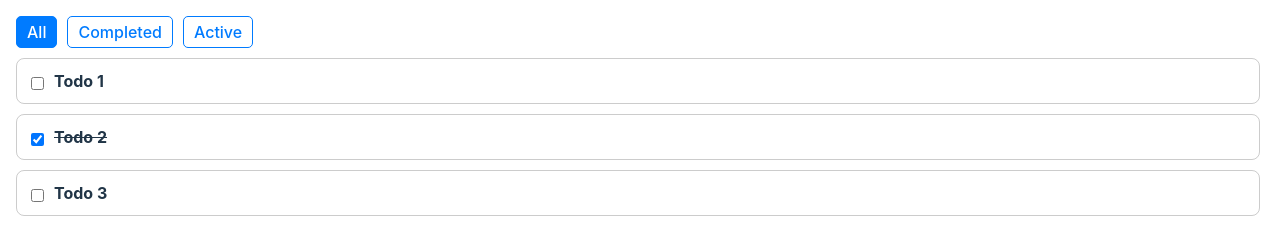
Test: renders TodoList component with 'Active' filter
// Click on 'Active' filter button
Step 1. Click the button "Active" → {"x": 218, "y": 32}, box [183, 16, 253, 48]
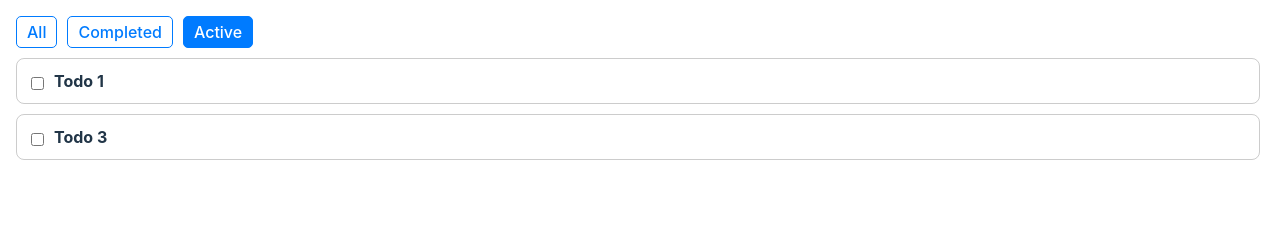
Check: the text "Todo 1" is shown, box [54, 71, 104, 91]
Check: the text "Todo 2" is gone
